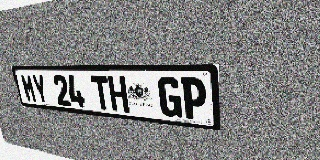2: (52, 75, 72, 106)
4: (65, 75, 86, 108)
G: (157, 77, 182, 118)
H: (107, 76, 129, 113)
M: (20, 74, 38, 103)
P: (181, 77, 207, 121)
T: (90, 76, 112, 111)
Y: (31, 74, 49, 104)
